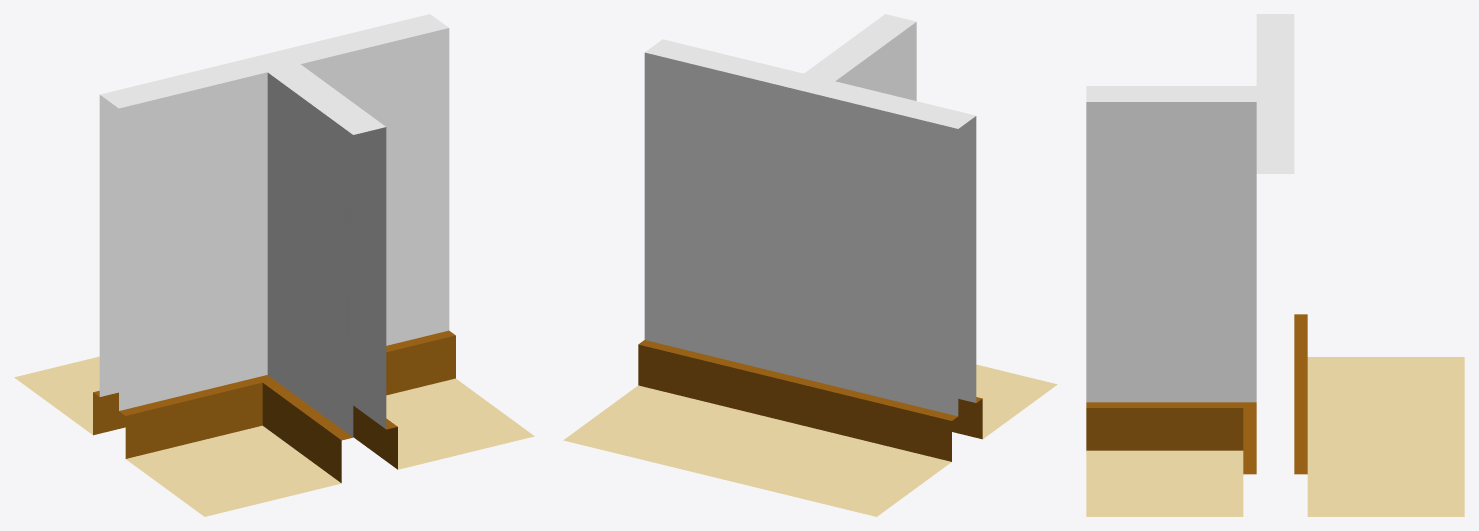
The model's file is I_Wall_T_Shape.fbx.
3 renders of one model, left to right at view 1: azimuth 30°, elevation 25°; view 2: azimuth 150°, elevation 25°; view 3: azimuth 270°, elevation 25°, orthographic. The views are drawn at different scales.
Parts seen in each view (by area): view 1: I_Wall_T_Shape; view 2: I_Wall_T_Shape; view 3: I_Wall_T_Shape.
Boxes of the visible parts, x1=… form: I_Wall_T_Shape: x1=14, y1=14, x2=534, y2=516; I_Wall_T_Shape: x1=563, y1=14, x2=1057, y2=516; I_Wall_T_Shape: x1=1086, y1=14, x2=1464, y2=516.
Size of the model in its own units: 200 by 200 by 200.
1 material, 1 textured.
